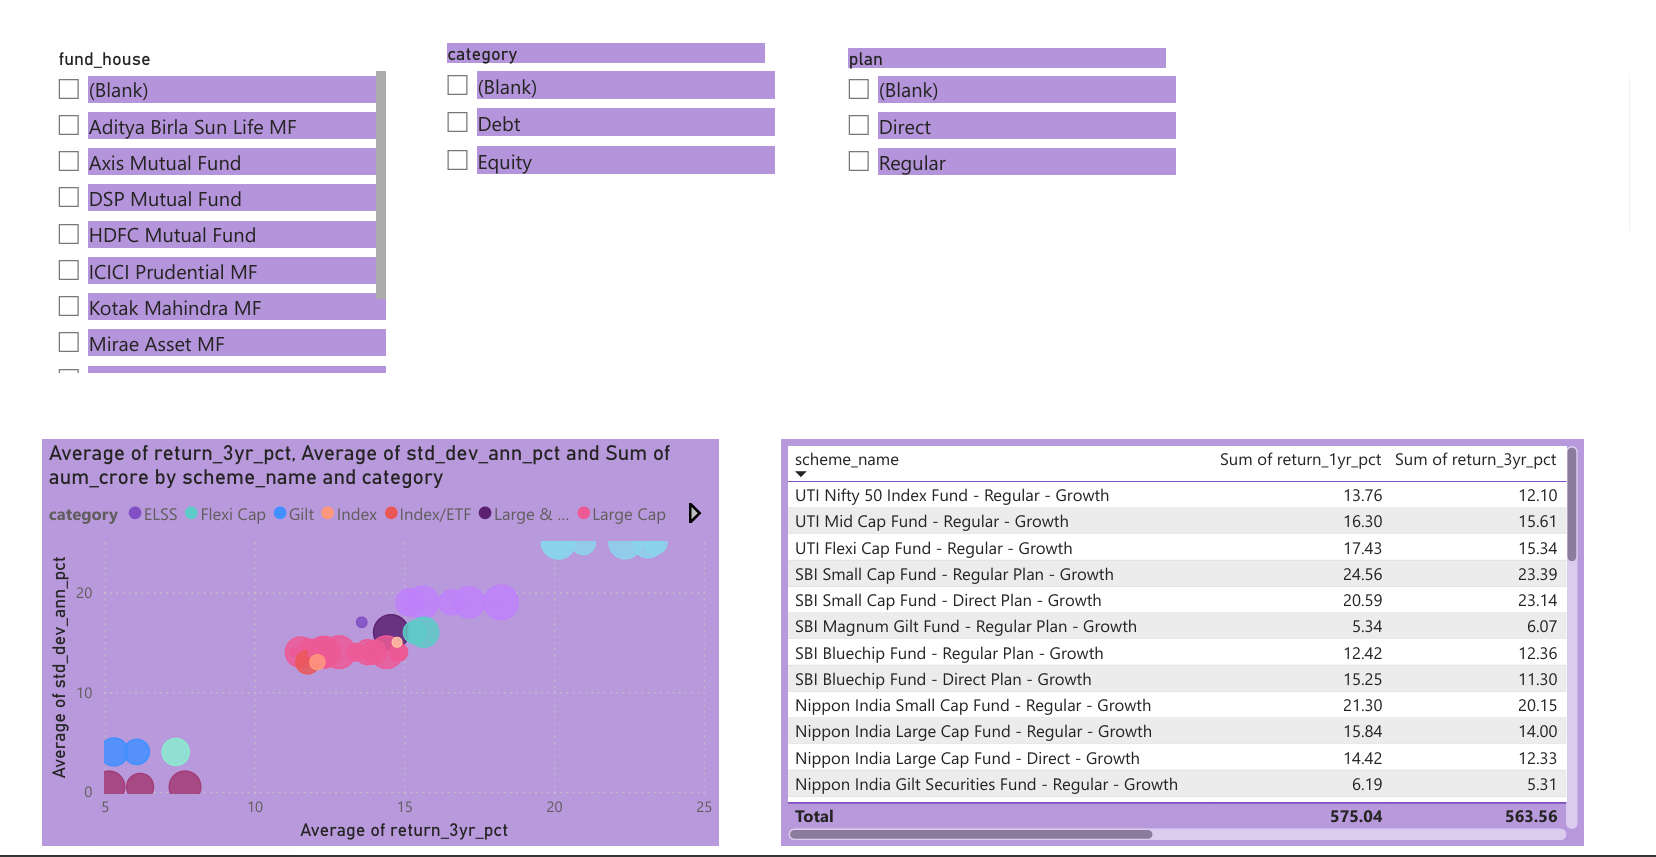

The dashboard page shown, as its layout file describes it:
{"tool":"powerbi","page":{"name":"Fund Performance","canvas":[1280,720],"ordinal":1},"visuals":[{"type":"slicer","fields":{"Values":["01_fund_master_clean.fund_house"]},"box":[10,10,279.9,269.9],"z":0},{"type":"slicer","fields":{"Values":["01_fund_master_clean.category"]},"box":[320.9,6.2,279.9,139.3],"z":1000},{"type":"slicer","fields":{"Values":["01_fund_master_clean.plan"]},"box":[641.9,10,279.9,150.5],"z":2000},{"type":"scatterChart","fields":{"X":["Avg(07_scheme_performance_clean.return_3yr_pct)"],"Y":["Avg(07_scheme_performance_clean.std_dev_ann_pct)"],"Series":["07_scheme_performance_clean.category"],"Category":["07_scheme_performance_clean.scheme_name"],"Size":["Sum(07_scheme_performance_clean.aum_crore)"]},"box":[10,328.4,541.1,324.7],"z":3000},{"type":"tableEx","fields":{"Values":["07_scheme_performance_clean.scheme_name","Sum(07_scheme_performance_clean.return_1yr_pct)","Sum(07_scheme_performance_clean.return_3yr_pct)","Sum(07_scheme_performance_clean.return_5yr_pct)","Sum(07_scheme_performance_clean.sharpe_ratio)","Sum(07_scheme_performance_clean.expense_ratio_pct)","Sum(07_scheme_performance_clean.morningstar_rating)","07_scheme_performance_clean.risk_grade"]},"box":[600.8,328.4,641.9,324.7],"z":4000}]}

Visuals, with their boxes on the page's 1280x720 design canvas (x1, y1, x2, y2). These are canvas units, not pixel positions in the 1656x857 screenshot, which may show the page scaled, cropped or inside an application window:
slicer - 01_fund_master_clean.fund_house: <bbox>10, 10, 290, 280</bbox>
slicer - 01_fund_master_clean.category: <bbox>321, 6, 601, 146</bbox>
slicer - 01_fund_master_clean.plan: <bbox>642, 10, 922, 160</bbox>
scatterChart - Avg(07_scheme_performance_clean.return_3yr_pct) x Avg(07_scheme_performance_clean.std_dev_ann_pct): <bbox>10, 328, 551, 653</bbox>
tableEx - 07_scheme_performance_clean.scheme_name x Sum(07_scheme_performance_clean.return_1yr_pct): <bbox>601, 328, 1243, 653</bbox>
